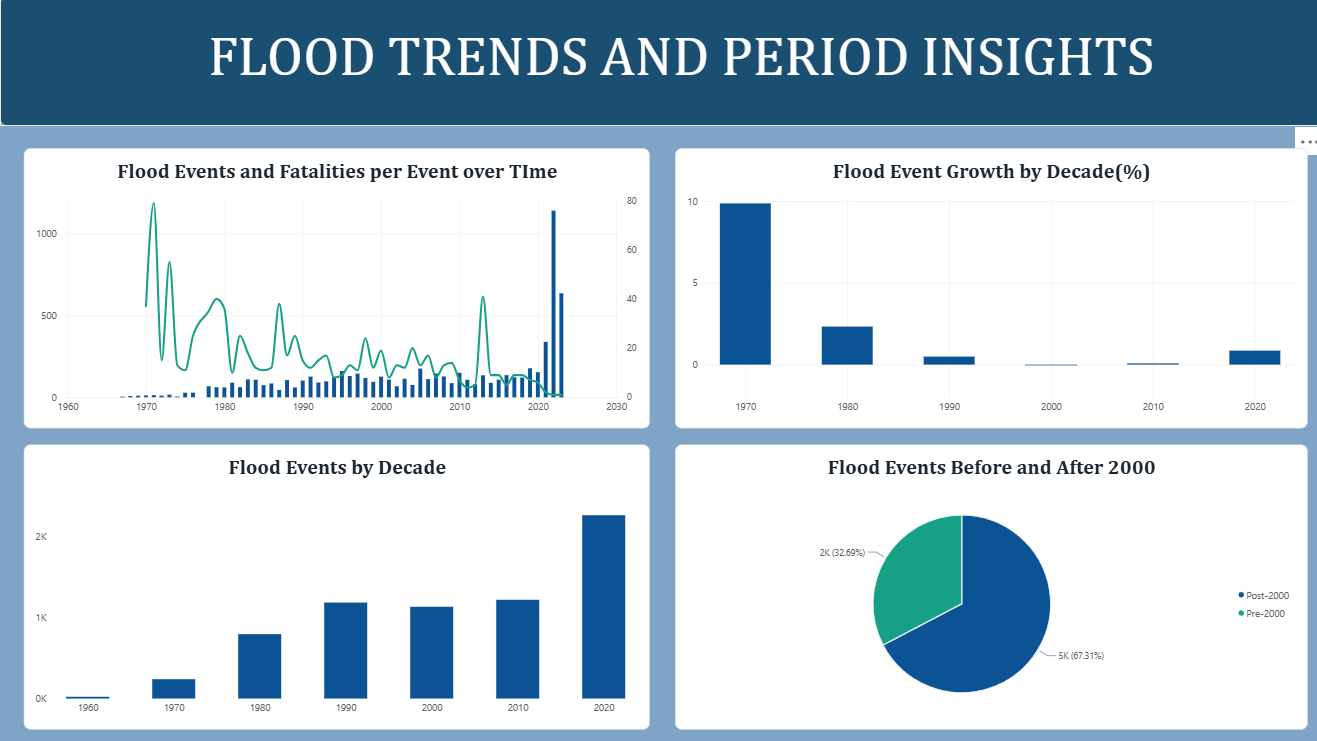

This screenshot's page, from the dashboard's own definition file:
{"tool":"powerbi","page":{"name":"Flood Trends","canvas":[1920,1080],"ordinal":2},"visuals":[{"type":"textbox","box":[0,0,1920.1,186.4],"z":0},{"type":"lineClusteredColumnComboChart","title":"Flood Events and Fatalities per Event over TIme","fields":{"Category":["DateTable.Year"],"Y":["India_Flood_Inventory_v3.Total Flood Events"],"Y2":["India_Flood_Inventory_v3.Fatalities per Flood Event"]},"box":[34.4,219,906.6,405.4],"z":1000},{"type":"clusteredColumnChart","title":"Flood Events by Decade","fields":{"Category":["DateTable.Decade"],"Y":["India_Flood_Inventory_v3.Total Flood Events"]},"box":[34.4,647.9,906.6,412.6],"z":2000},{"type":"clusteredColumnChart","title":"Flood Event Growth by Decade(%)","fields":{"Y":["India_Flood_Inventory_v3.Flood Event Growth %"],"Category":["DateTable.Decade"]},"box":[977.2,219,915.7,405.4],"z":3000},{"type":"pieChart","title":"Flood Events Before and After 2000","fields":{"Category":["DateTable.Period Flag"],"Y":["India_Flood_Inventory_v3.Total Flood Events"]},"box":[977.2,647.9,915.7,412.6],"z":4000}]}

Visuals, with their boxes in screenshot pixels (x1, y1, x2, y2), scaled from the page's 1920x1080 canvas onto the 1317x741 screenshot:
textbox: x1=0, y1=0, x2=1316, y2=128
"Flood Events and Fatalities per Event over TIme" lineClusteredColumnComboChart: x1=24, y1=150, x2=645, y2=428
"Flood Events by Decade" clusteredColumnChart: x1=24, y1=445, x2=645, y2=728
"Flood Event Growth by Decade(%)" clusteredColumnChart: x1=670, y1=150, x2=1298, y2=428
"Flood Events Before and After 2000" pieChart: x1=670, y1=445, x2=1298, y2=728
